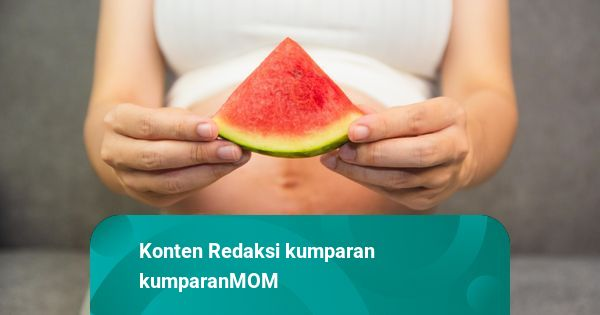Semangka: (202, 43, 394, 151)
